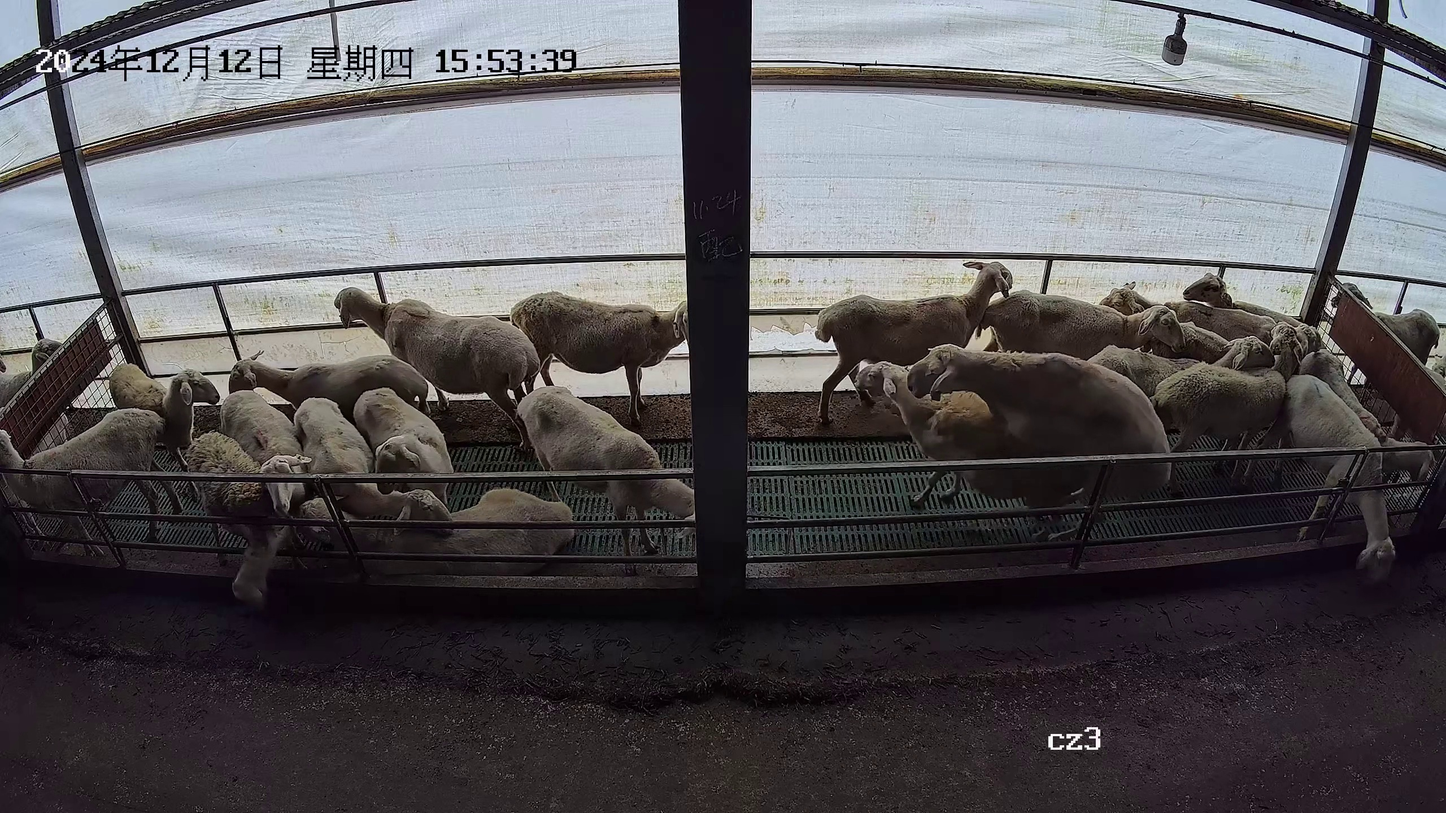Smounting: (851, 339, 1174, 545)
mounted: (853, 358, 1086, 538)
